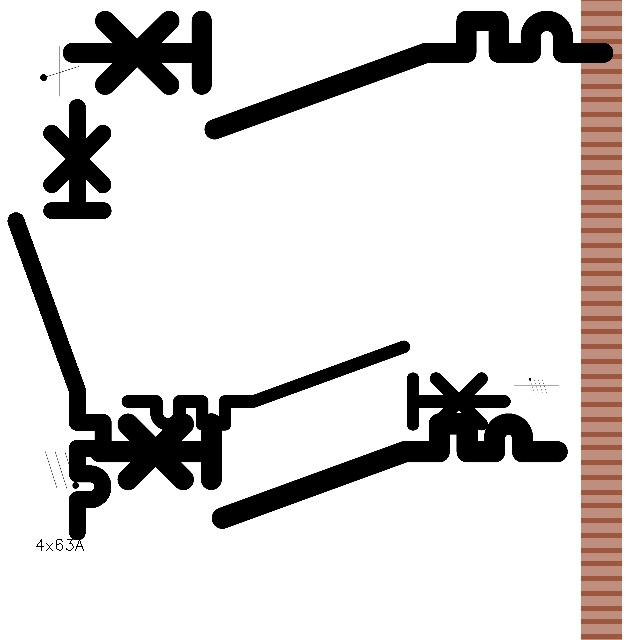interruptor_termomagnetico: (59, 7, 617, 143), (88, 412, 569, 529), (5, 96, 114, 542), (118, 337, 514, 434)
